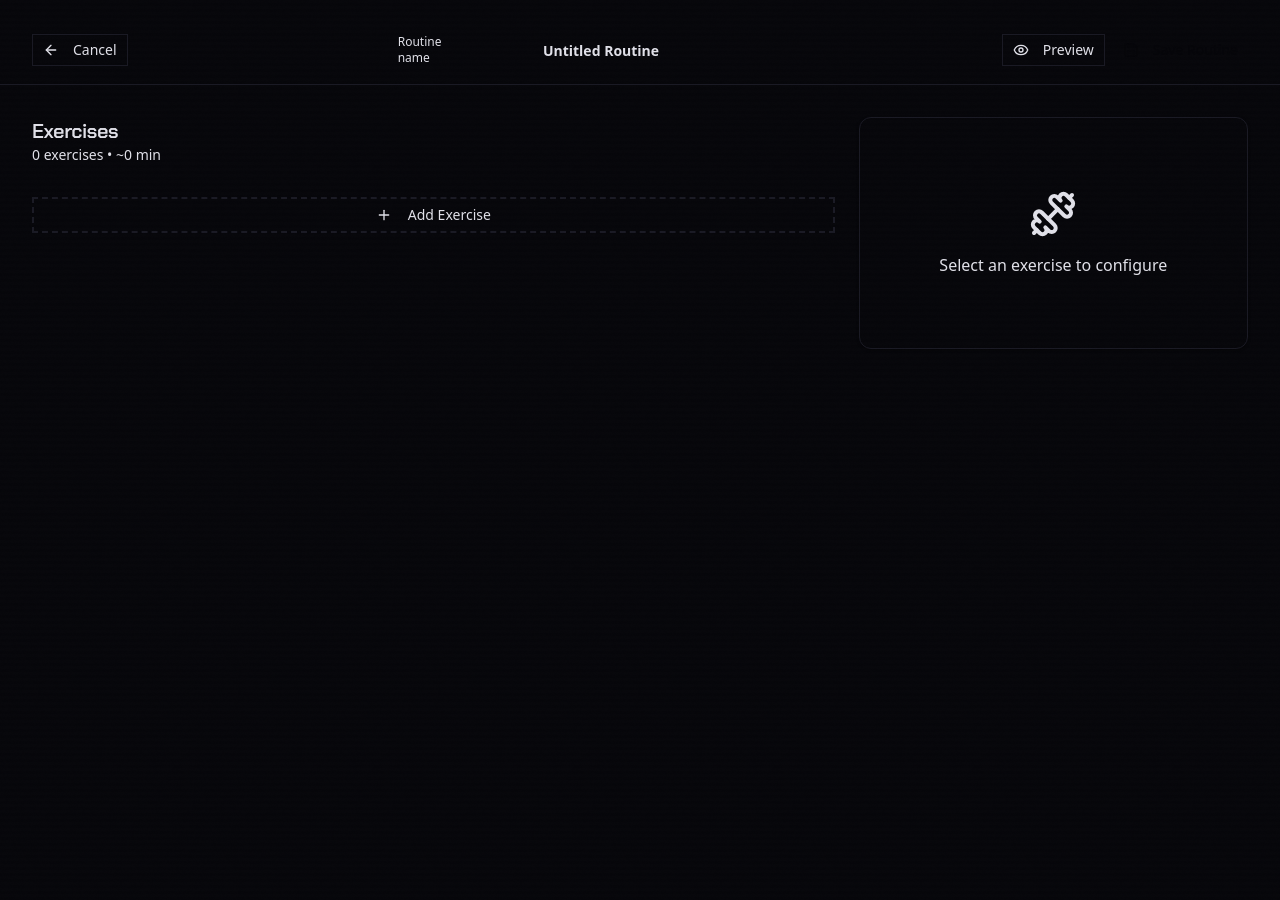
RoutineBuilder › opens preview dialog showing routine summary
Click the button "Preview" at {"x": 1053, "y": 50}, box [1002,34,1105,66]
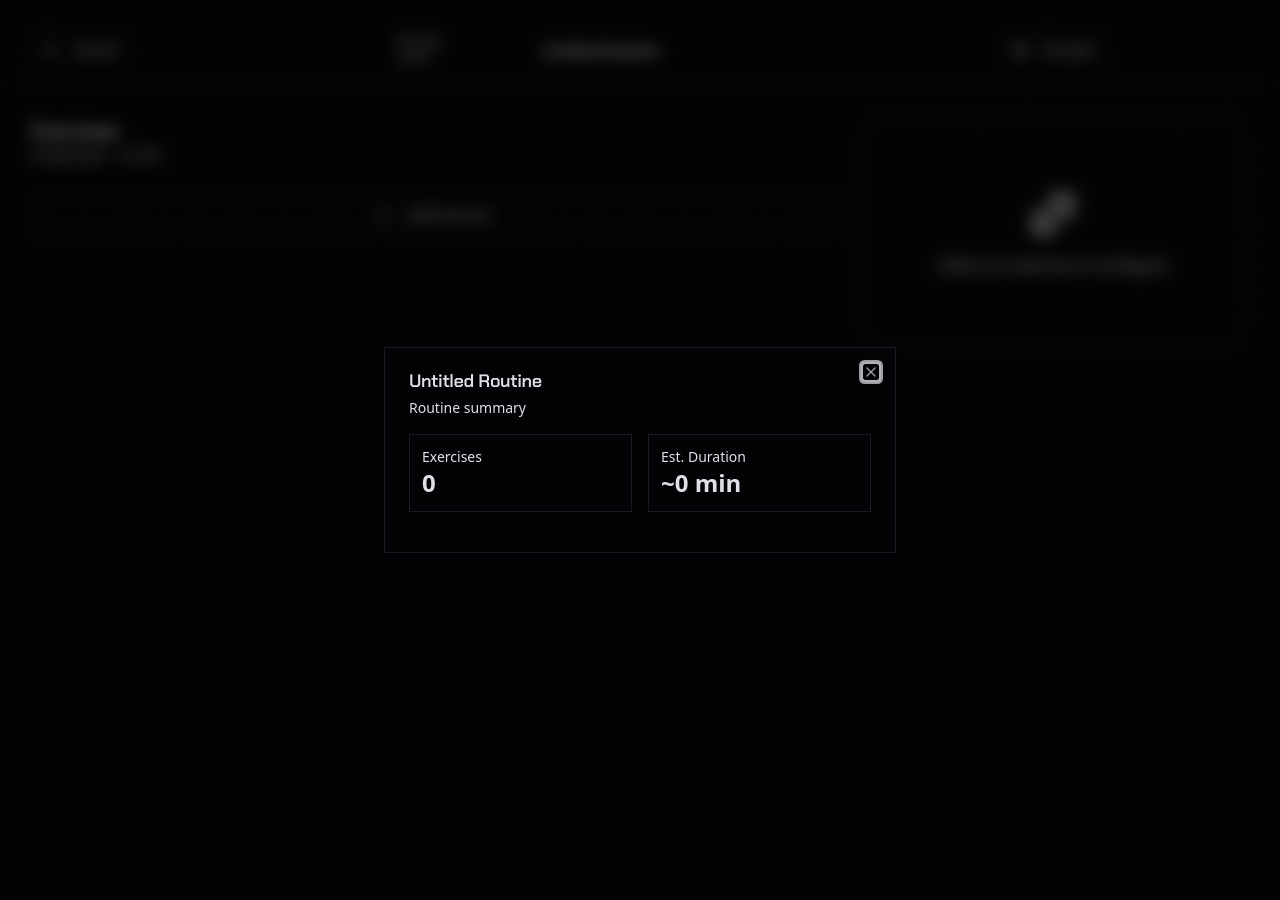
Check: the text "Routine summary" is shown, box [409,398,526,417]
